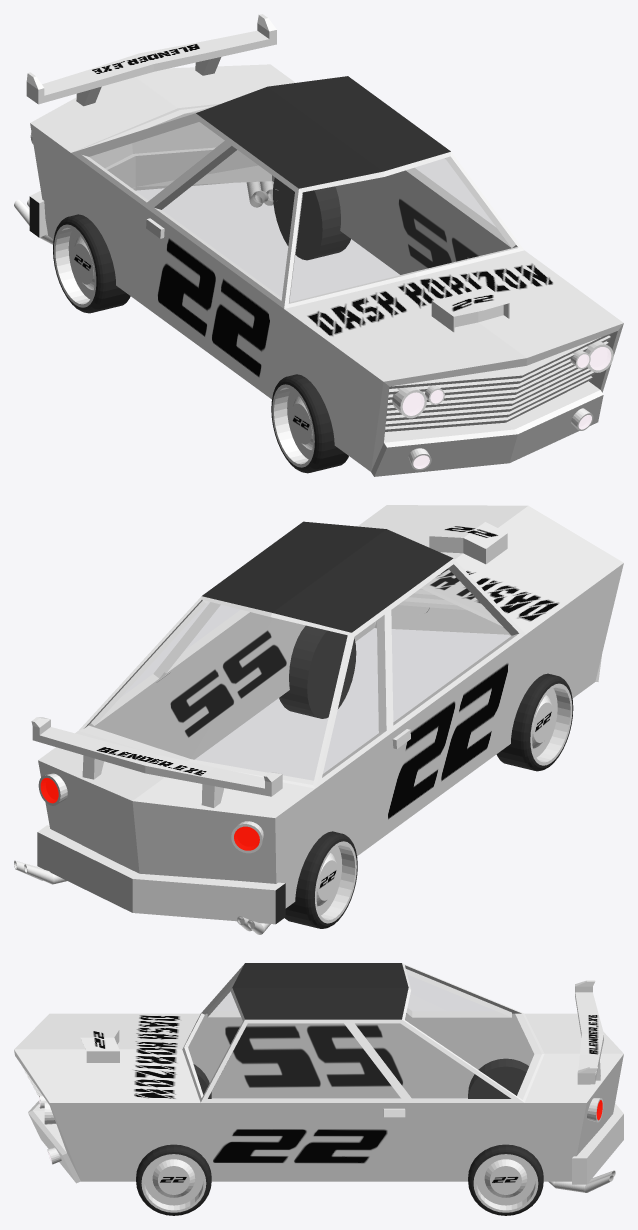
The model's file is car_lowpoly_.glb.
3 views of the same model, one above another, from view 1: azimuth 30°, elevation 25°; view 2: azimuth 150°, elevation 25°; view 3: azimuth 270°, elevation 25° (orthographic). The views are drawn at different scales.
Parts seen in each view (by area): view 1: Circle, Circle.001; view 2: Circle, Circle.001; view 3: Circle, Circle.001.
Part boxes in pixels (left/top/right/bottom): Circle: left=14, top=14, right=623, bottom=476; Circle.001: left=53, top=177, right=350, bottom=473; Circle: left=14, top=505, right=623, bottom=934; Circle.001: left=279, top=625, right=573, bottom=928; Circle: left=14, top=963, right=623, bottom=1192; Circle.001: left=136, top=1058, right=543, bottom=1215.
Size of the model in its own units: 2.97 by 2.63 by 7.98.
11 materials, 6 textured.
